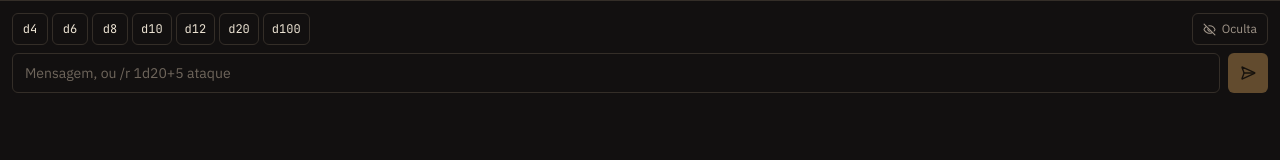
it: Composer › avisa quando o servidor não responde
Click the button "d4". click: (30, 29)
box: 12,13 -> 48,45
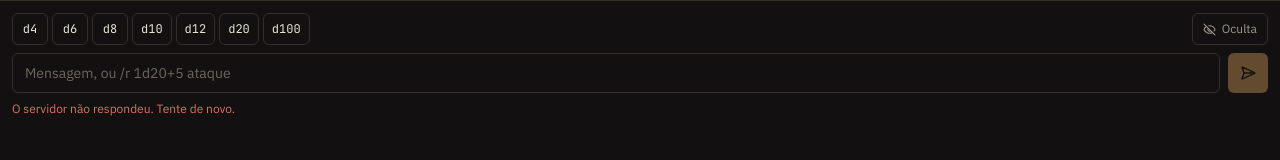
Expected: the message shows "não respondeu", 12,101 -> 235,116
